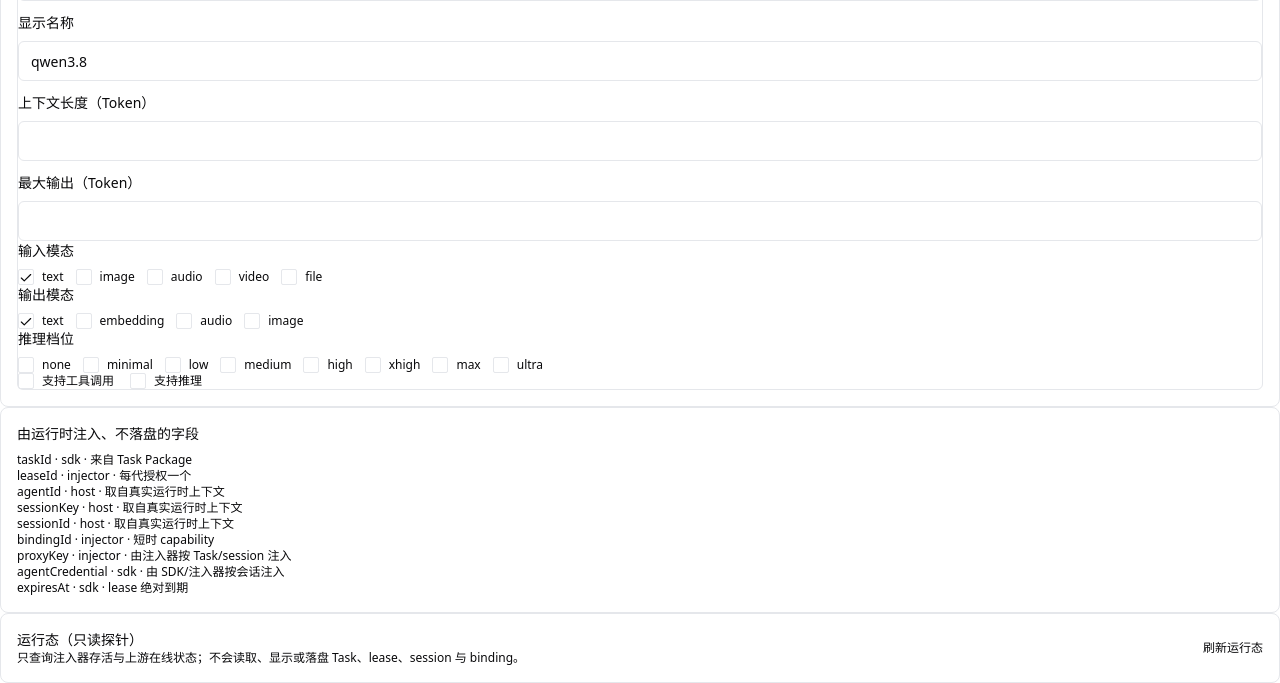
Test: TeProviderFields › shows probe failures instead of pretending the sidecar is down
(page scrolled)
Click the button with test id "te-refresh-runtime": (1233, 648) [1203, 640, 1263, 656]
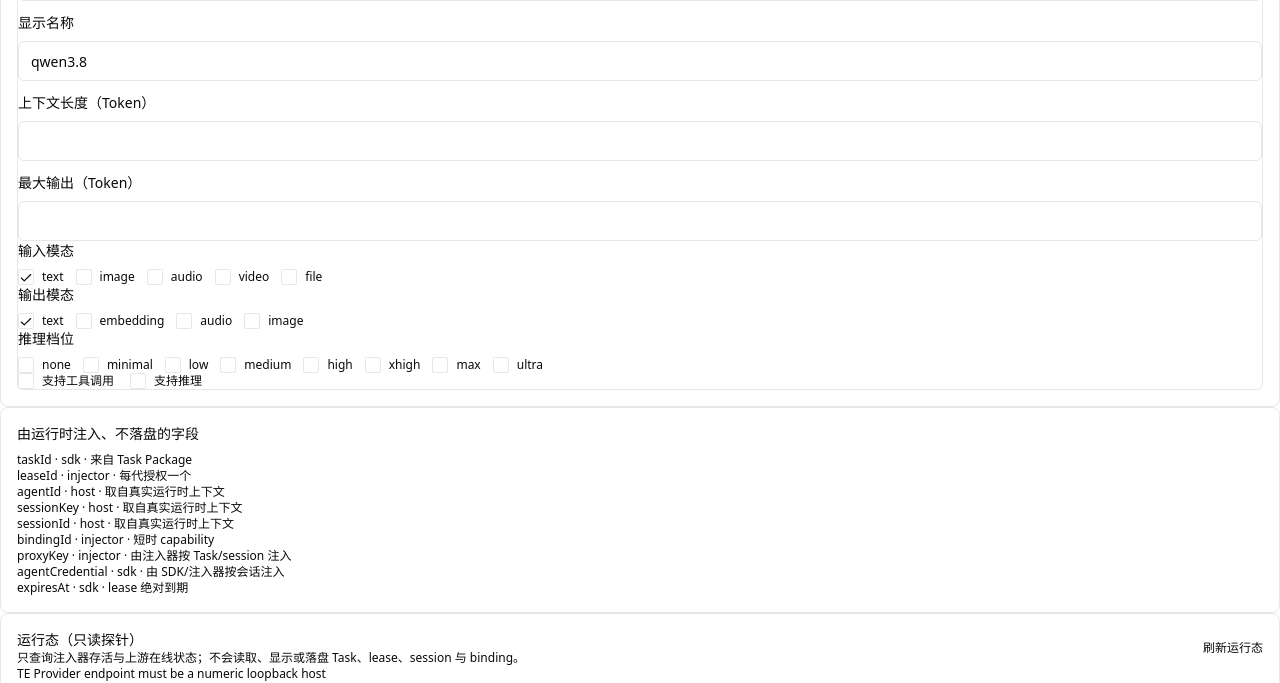
expect the text with test id "te-runtime-error" shows "numeric loopback": met, box [17, 665, 326, 682]
